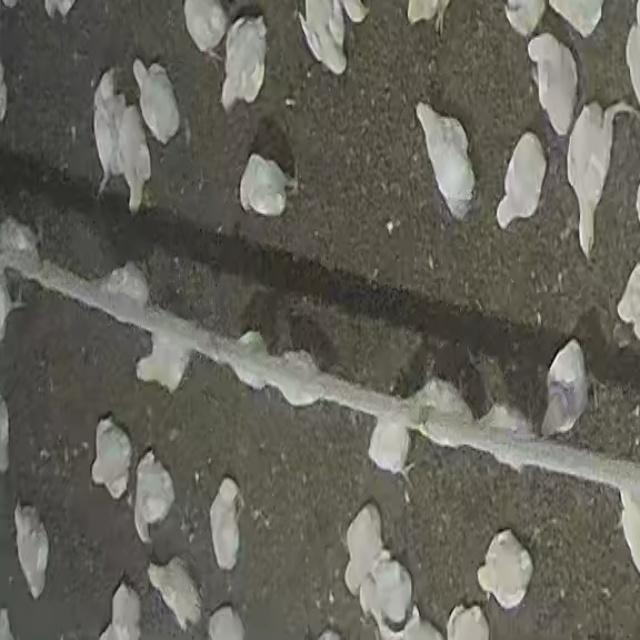chicken: (417, 91, 473, 214)
